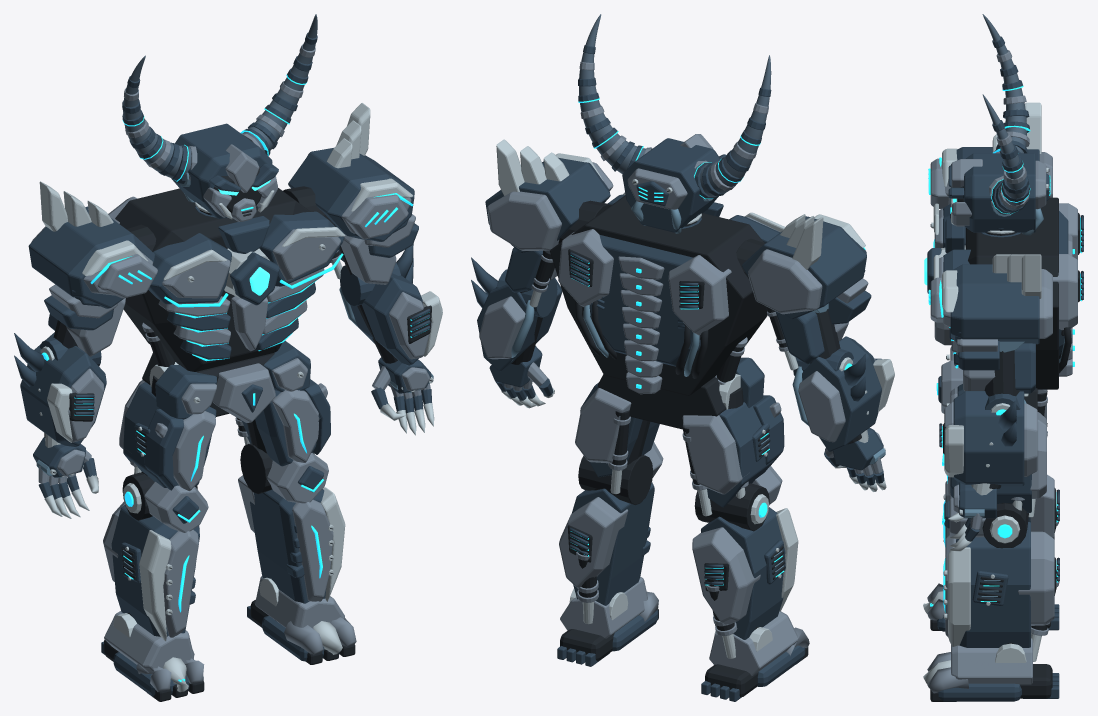
File: Lattice_Warden.glb
3 views of the same model, side by side, from view 1: azimuth 30°, elevation 25°; view 2: azimuth 150°, elevation 25°; view 3: azimuth 270°, elevation 25° (orthographic). The views are drawn at different scales.
Visible parts, largest first — view 1: Thoracic structural cast, L Pauldron envelope, R Pauldron envelope, R Greave carrier, Helmet casting, L Vambrace base, L Greave carrier, R Greave face, R Vambrace base, L Ankle boot shield, L Greave face, Pelvis keel (+51 smaller); view 2: Thoracic structural cast, Dorsal carapace, Helmet casting, R Greave carrier, L Greave carrier, L Pauldron envelope, L Calf carapace, R Pauldron rear shell, L Pauldron rear shell, L Rear thigh plating, Hip transmission, L Vambrace base (+37 smaller); view 3: R Pauldron envelope, R Greave carrier, R Vambrace base, Thoracic structural cast, Helmet casting, R Ankle boot shield, R Calf carapace, R Greave cutter, R exhaust shell, R foot sole, L continuous swept horn, R Upper-arm rear cover (+44 smaller).
Boxes of the visible parts, x1=… form: Thoracic structural cast: x1=115, y1=188, x2=310, y2=371; L Pauldron envelope: x1=28, y1=206, x2=155, y2=308; R Pauldron envelope: x1=288, y1=148, x2=414, y2=241; R Greave carrier: x1=250, y1=489, x2=326, y2=603; Helmet casting: x1=171, y1=123, x2=272, y2=218; L Vambrace base: x1=20, y1=332, x2=106, y2=446; L Greave carrier: x1=111, y1=505, x2=199, y2=636; R Greave face: x1=292, y1=499, x2=333, y2=601; R Vambrace base: x1=350, y1=273, x2=422, y2=365; L Ankle boot shield: x1=104, y1=611, x2=193, y2=672; L Greave face: x1=163, y1=529, x2=198, y2=637; Pelvis keel: x1=212, y1=363, x2=275, y2=422; Thoracic structural cast: x1=550, y1=195, x2=767, y2=395; Dorsal carapace: x1=589, y1=234, x2=700, y2=366; Helmet casting: x1=622, y1=138, x2=720, y2=232; R Greave carrier: x1=571, y1=483, x2=654, y2=605; L Greave carrier: x1=701, y1=507, x2=785, y2=639; L Pauldron envelope: x1=742, y1=216, x2=866, y2=319; L Calf carapace: x1=692, y1=527, x2=760, y2=624; R Pauldron rear shell: x1=487, y1=191, x2=561, y2=250; L Pauldron rear shell: x1=748, y1=249, x2=822, y2=314; L Rear thigh plating: x1=682, y1=415, x2=747, y2=494; Hip transmission: x1=597, y1=374, x2=726, y2=429; L Vambrace base: x1=802, y1=336, x2=881, y2=451; R Pauldron envelope: x1=950, y1=264, x2=1039, y2=344; R Greave carrier: x1=956, y1=522, x2=1030, y2=647; R Vambrace base: x1=953, y1=391, x2=1024, y2=486; Thoracic structural cast: x1=965, y1=197, x2=1058, y2=389; Helmet casting: x1=964, y1=153, x2=1035, y2=232; R Ankle boot shield: x1=951, y1=634, x2=1032, y2=684; R Calf carapace: x1=1018, y1=531, x2=1054, y2=626; R Greave cutter: x1=948, y1=547, x2=970, y2=646; R exhaust shell: x1=1053, y1=254, x2=1077, y2=330; R foot sole: x1=938, y1=683, x2=1021, y2=701; L continuous swept horn: x1=982, y1=14, x2=1026, y2=153; R Upper-arm rear cover: x1=1014, y1=343, x2=1035, y2=393.
Size of the model in its own units: 4.63 by 6.92 by 1.67.
